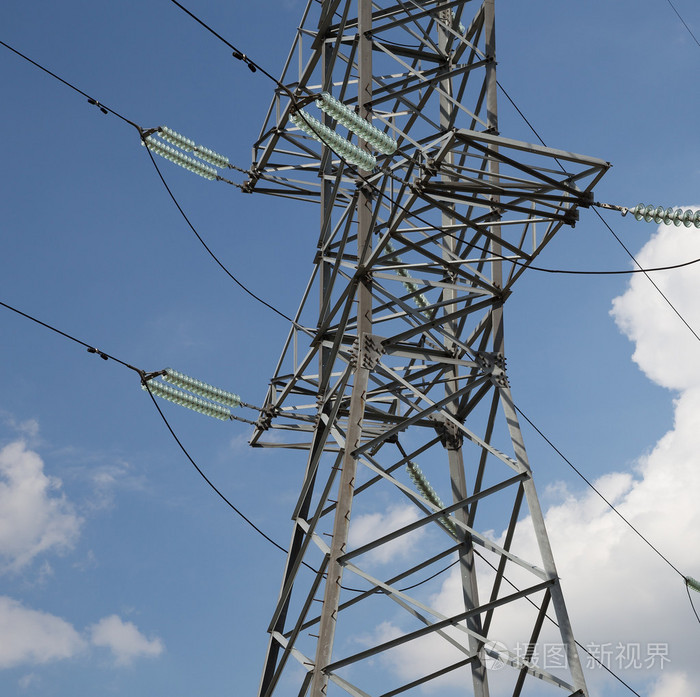insulator: (288, 89, 396, 170), (139, 370, 241, 419), (141, 123, 227, 181), (404, 463, 459, 534), (629, 203, 700, 230)
